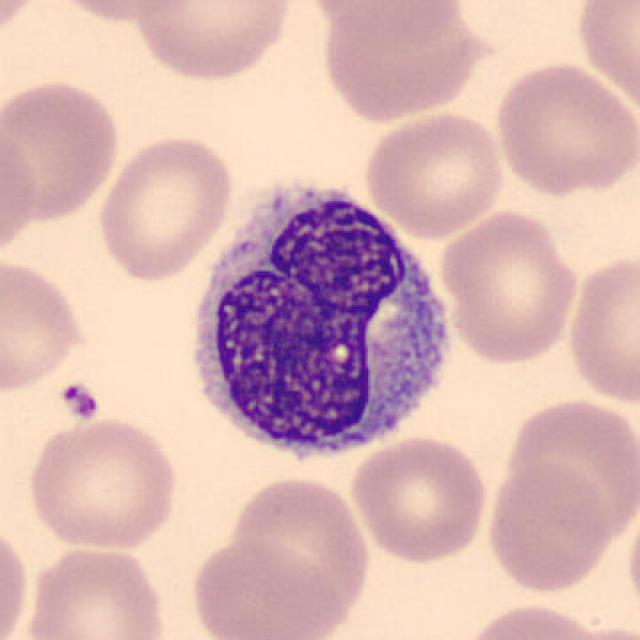Monocyte: (176, 166, 464, 478)
Platelets: (57, 379, 103, 425)
RBC: (436, 206, 582, 367), (222, 472, 374, 626), (313, 0, 492, 127), (23, 412, 183, 554), (92, 130, 236, 284), (500, 393, 638, 543), (489, 58, 636, 198), (348, 432, 492, 566), (361, 108, 508, 238), (0, 74, 124, 225), (482, 460, 617, 596), (185, 534, 347, 640), (21, 541, 169, 640), (130, 0, 300, 85), (0, 256, 91, 396), (562, 249, 638, 409), (570, 0, 640, 120), (300, 0, 468, 48), (457, 599, 622, 640), (0, 122, 39, 266), (39, 0, 197, 25), (0, 520, 32, 640), (0, 0, 46, 48)
